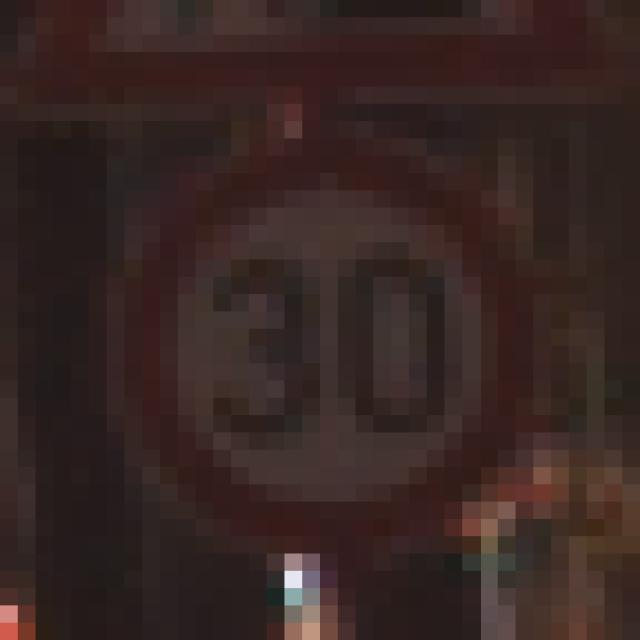Speed Limit -30-: (80, 95, 524, 528)
